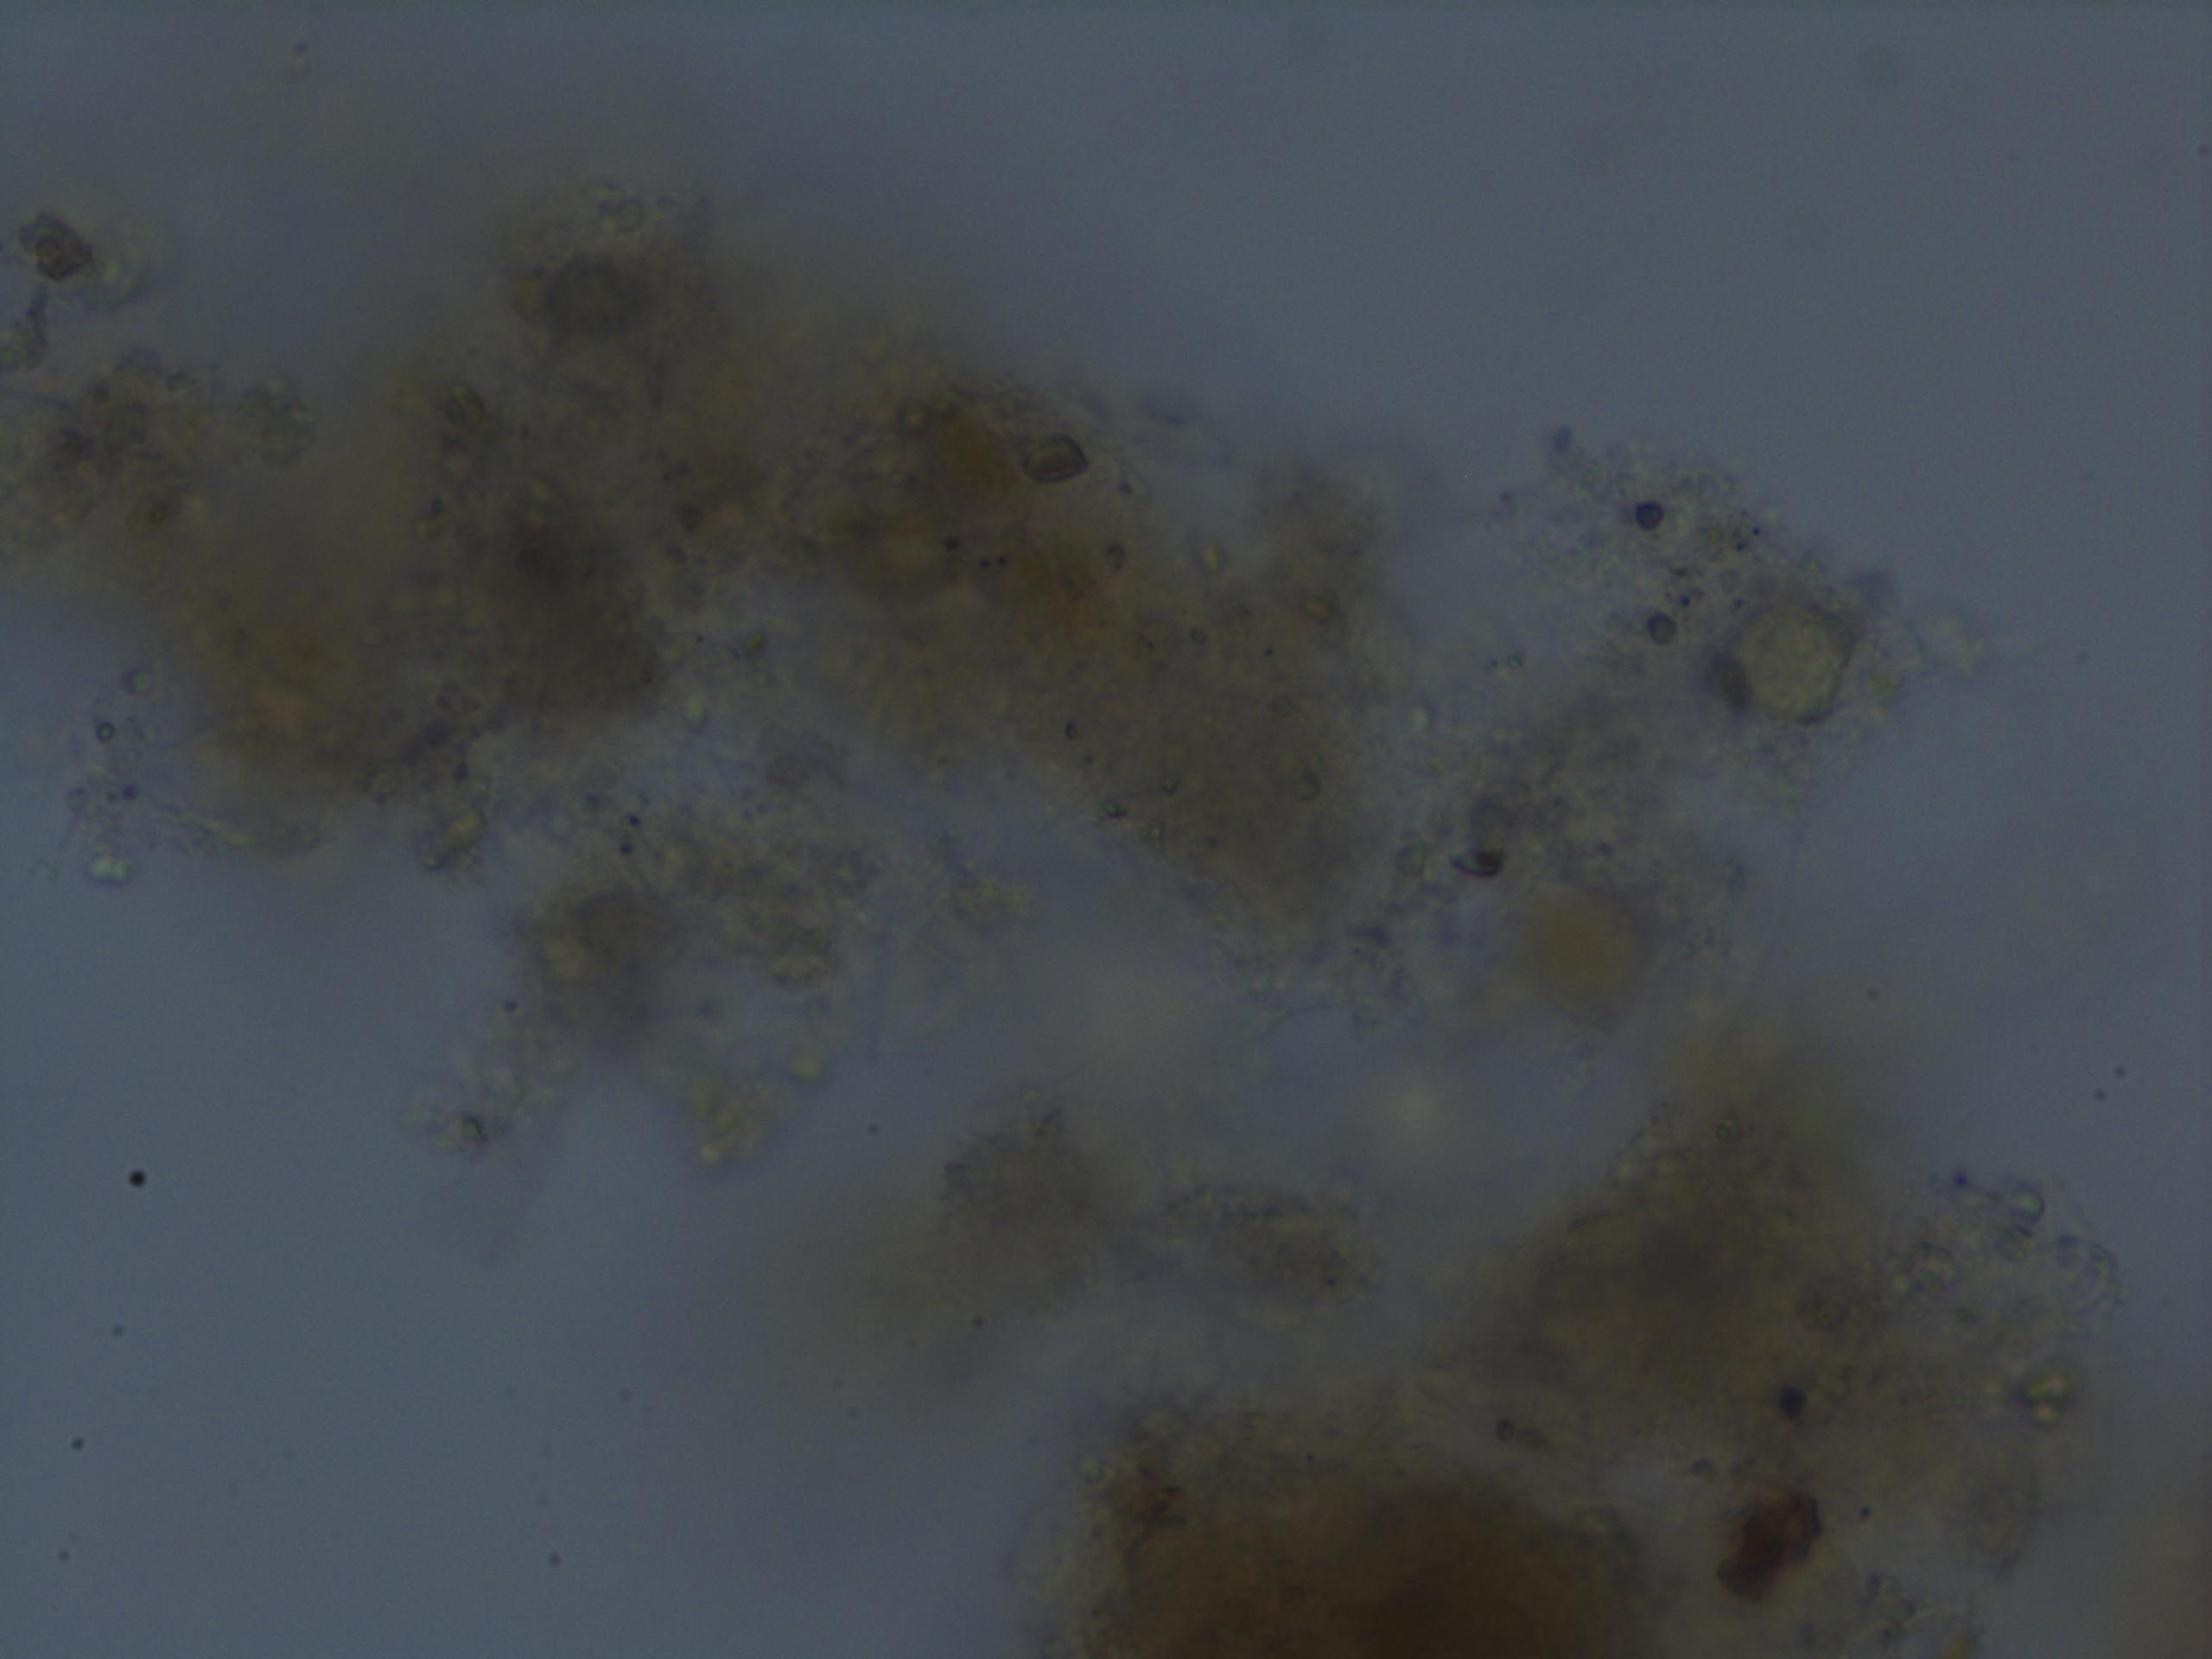open_floc: (0, 134, 2137, 1654)
